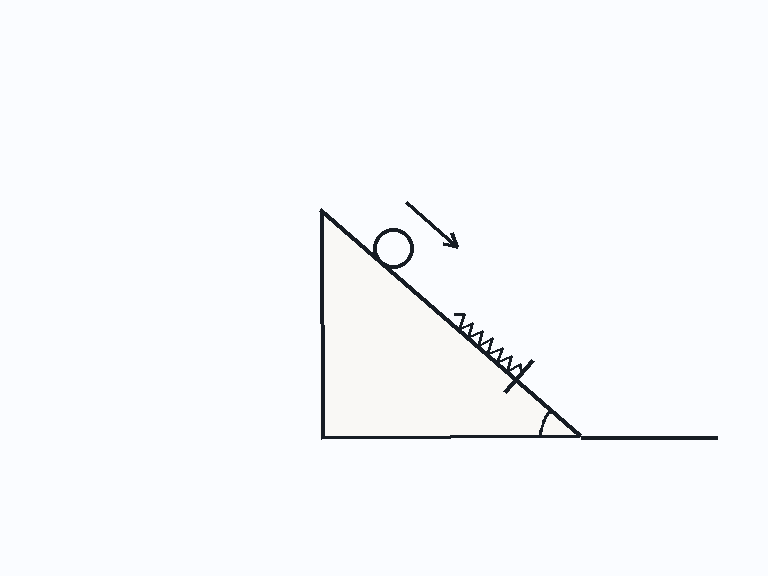ball: (371, 226, 415, 270)
ramp: (318, 209, 582, 439)
spring: (451, 312, 523, 376)
